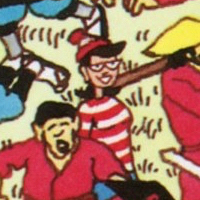wenda: (75, 31, 123, 96)
